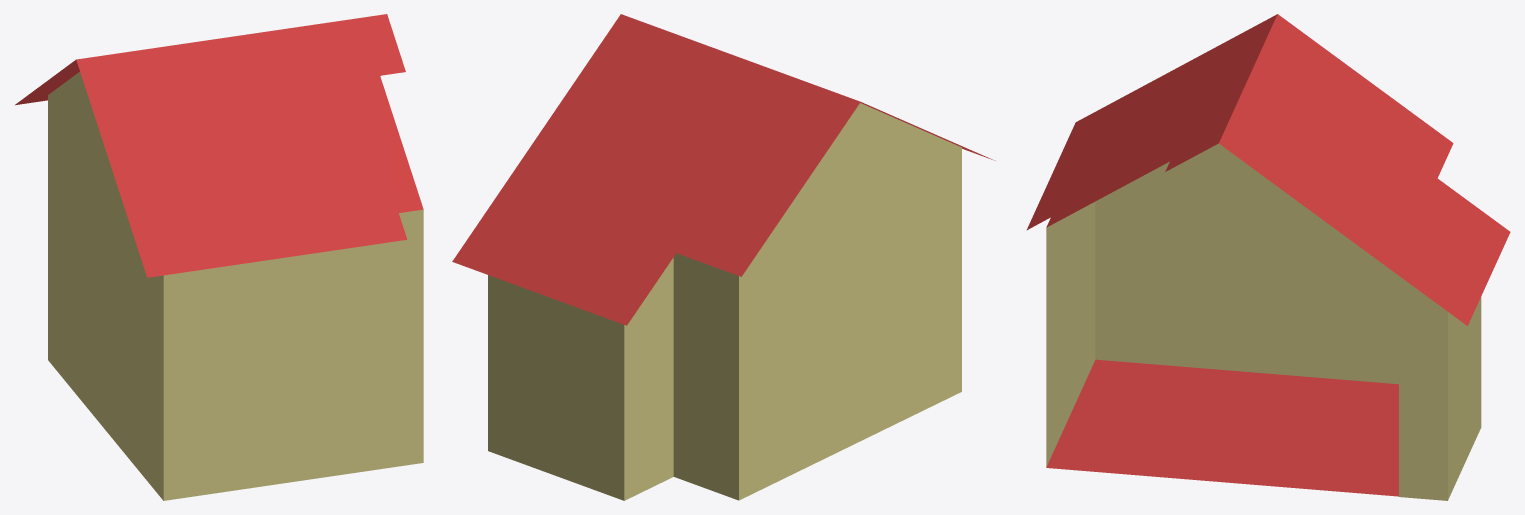
The picture shows the model from 3 angles, left to right: view 1: azimuth 30°, elevation 25°; view 2: azimuth 150°, elevation 25°; view 3: azimuth 270°, elevation 25°; orthographic projection. The views are drawn at different scales.
Bounding box in the file's own units: 11.79 × 14.53 × 11.58.
